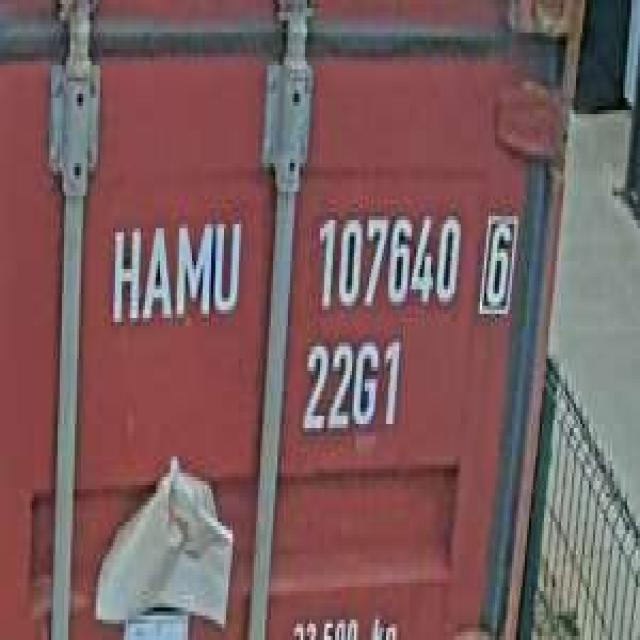dv: (476, 200, 518, 322)
owner: (104, 200, 246, 338)
serial: (309, 196, 463, 322)
size: (297, 330, 403, 440)
